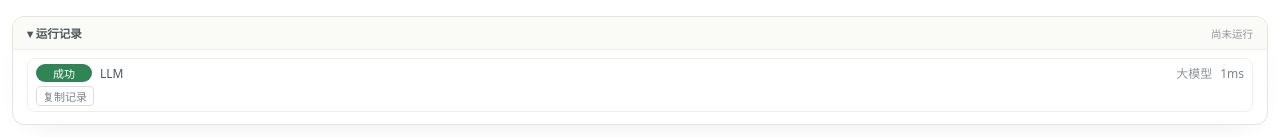
Test: 运行记录面板（R5-6、R5-7） › 面板可折叠
Click the button "▾ 运行记录" at (54, 33), box [27,25,82,41]
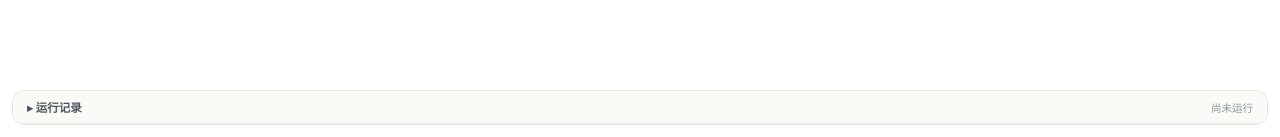
Now the button "LLM" is gone
